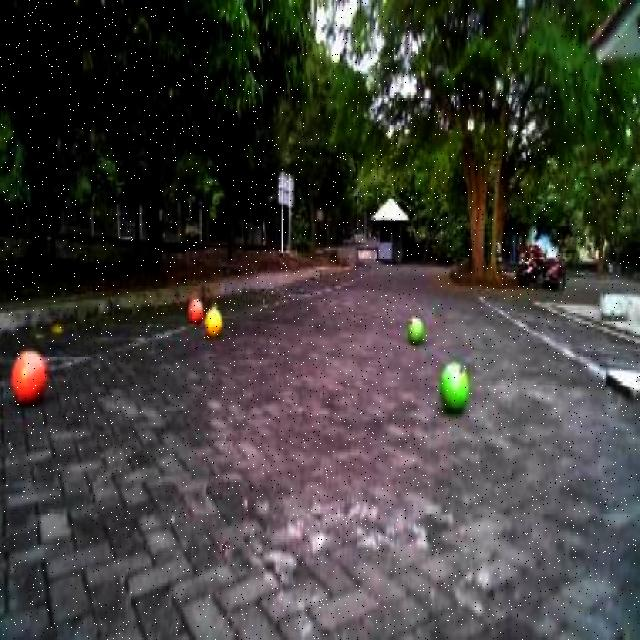buoy: (7, 343, 51, 411), (438, 357, 469, 420), (201, 305, 224, 341), (404, 310, 424, 346), (186, 292, 205, 327)
